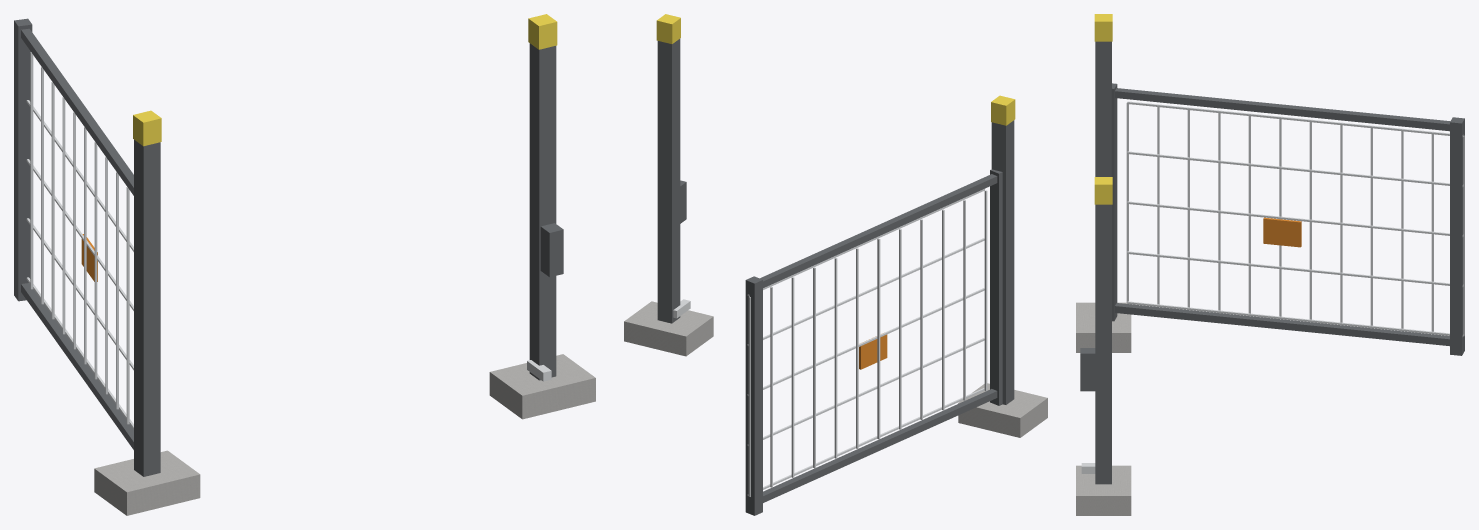
The model's file is self-storage-facility-and-loading-bay-self-storage-fac-63d0c5ef__34726.glb.
The picture shows the model from 3 angles, left to right: view 1: azimuth 30°, elevation 25°; view 2: azimuth 150°, elevation 25°; view 3: azimuth 270°, elevation 25°; orthographic projection. The views are drawn at different scales.
Visible parts, largest first — view 1: self-storage-facility-and-loading-bay-site-fence-gate; view 2: self-storage-facility-and-loading-bay-site-fence-gate; view 3: self-storage-facility-and-loading-bay-site-fence-gate.
Boxes of the visible parts, x1,y1,x2,y2 form: self-storage-facility-and-loading-bay-site-fence-gate: [14, 14, 595, 515]; self-storage-facility-and-loading-bay-site-fence-gate: [624, 14, 1047, 515]; self-storage-facility-and-loading-bay-site-fence-gate: [1076, 14, 1464, 515].
Size of the model in its own units: 3.32 by 2.56 by 2.82.
5 materials, 1 textured.
